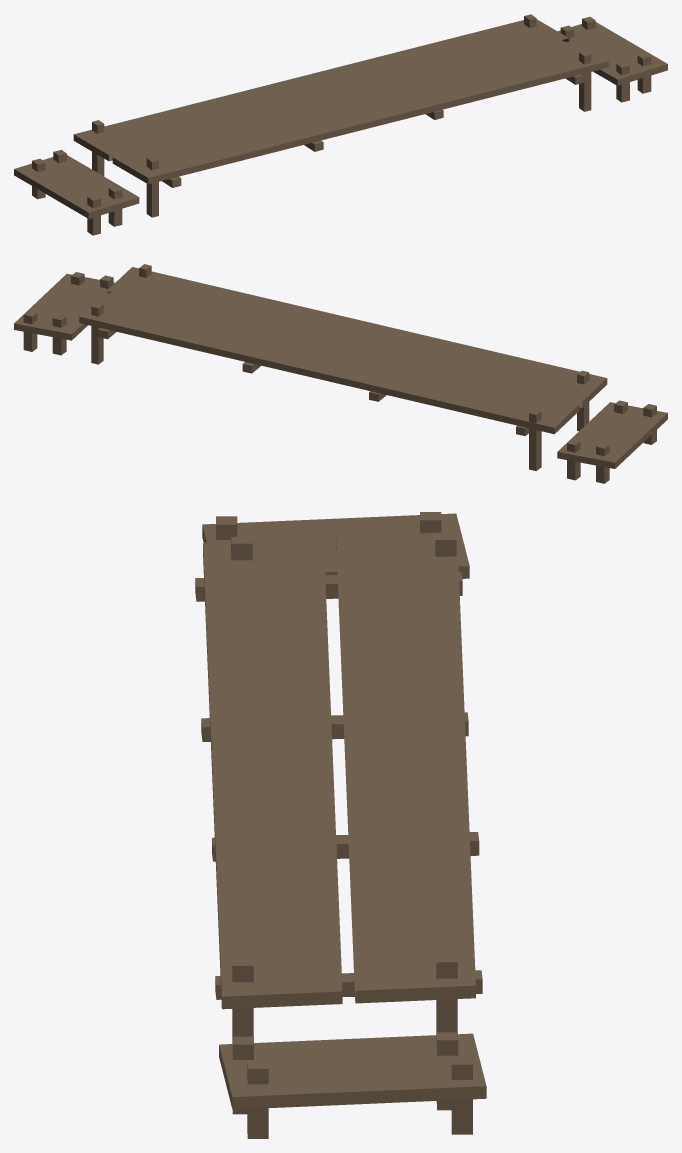
File: P_bridge_01_LD.fbx
3 renders of one model, top to bottom at view 1: azimuth 30°, elevation 25°; view 2: azimuth 150°, elevation 25°; view 3: azimuth 270°, elevation 25°, orthographic. The views are drawn at different scales.
Parts seen in each view (by area): view 1: P_bridge_01; view 2: P_bridge_01; view 3: P_bridge_01.
Part boxes in pixels (left/top/right/bottom): P_bridge_01: left=14, top=14, right=667, bottom=235; P_bridge_01: left=14, top=264, right=667, bottom=483; P_bridge_01: left=195, top=512, right=486, bottom=1138.
Size of the model in its own units: 592 by 52.61 by 125.
